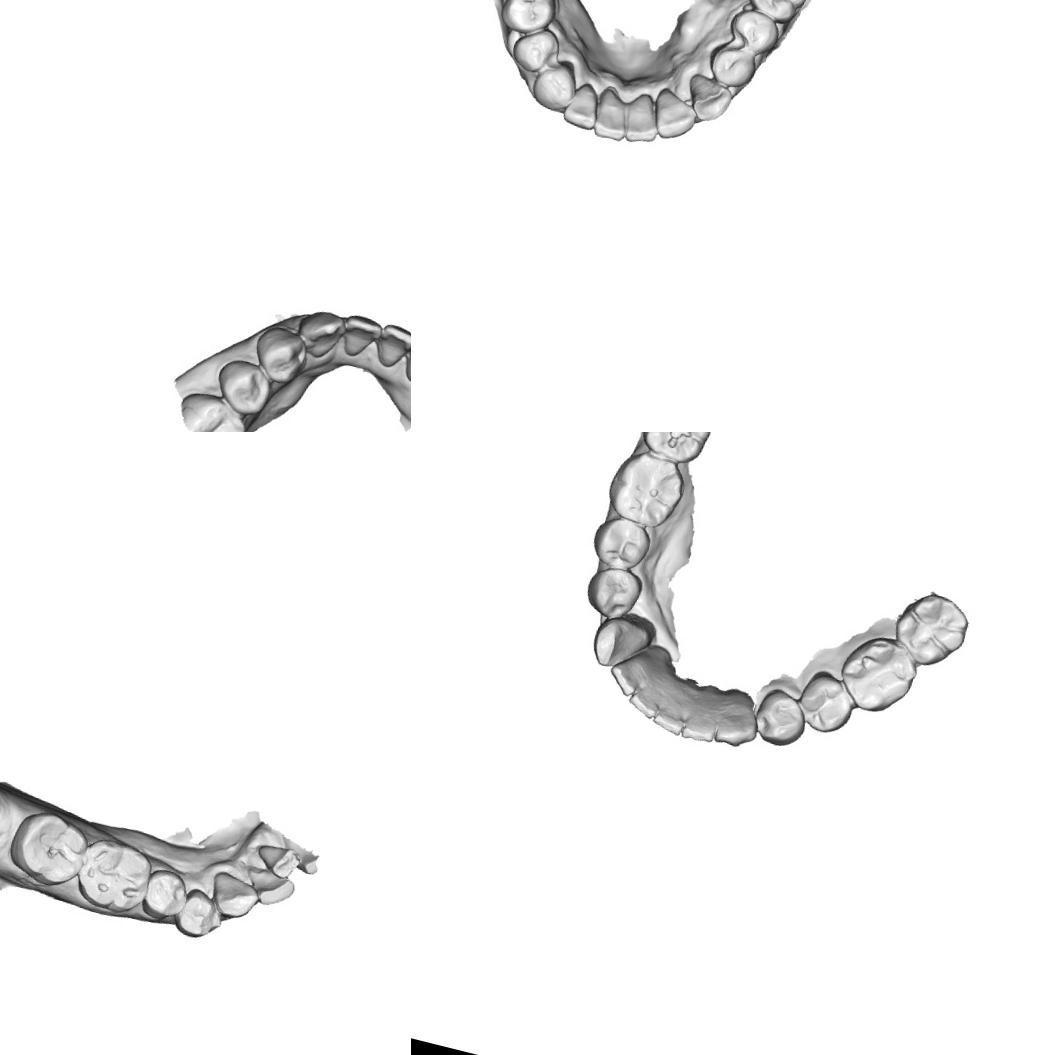canine: (586, 610, 656, 676), (202, 866, 265, 924), (712, 685, 766, 751), (678, 69, 736, 129), (526, 55, 582, 116), (292, 304, 348, 364)
incisor: (646, 84, 702, 146), (239, 861, 300, 912), (678, 681, 725, 744), (588, 83, 635, 144), (620, 88, 666, 148), (558, 76, 604, 133), (367, 316, 411, 374), (336, 311, 384, 362), (248, 838, 302, 883), (604, 650, 650, 700), (648, 694, 690, 738), (624, 680, 663, 721)
molar: (1, 802, 95, 896), (832, 627, 924, 721), (600, 444, 690, 534), (72, 831, 160, 920), (887, 586, 974, 674), (635, 432, 719, 468), (740, 0, 815, 29)
premolar: (790, 667, 862, 739), (209, 353, 277, 420), (586, 510, 655, 575), (246, 320, 310, 388), (748, 683, 812, 751), (580, 562, 646, 625), (720, 2, 786, 60), (136, 863, 192, 926), (506, 20, 562, 80), (700, 38, 760, 94), (171, 882, 227, 942), (496, 0, 562, 40)
